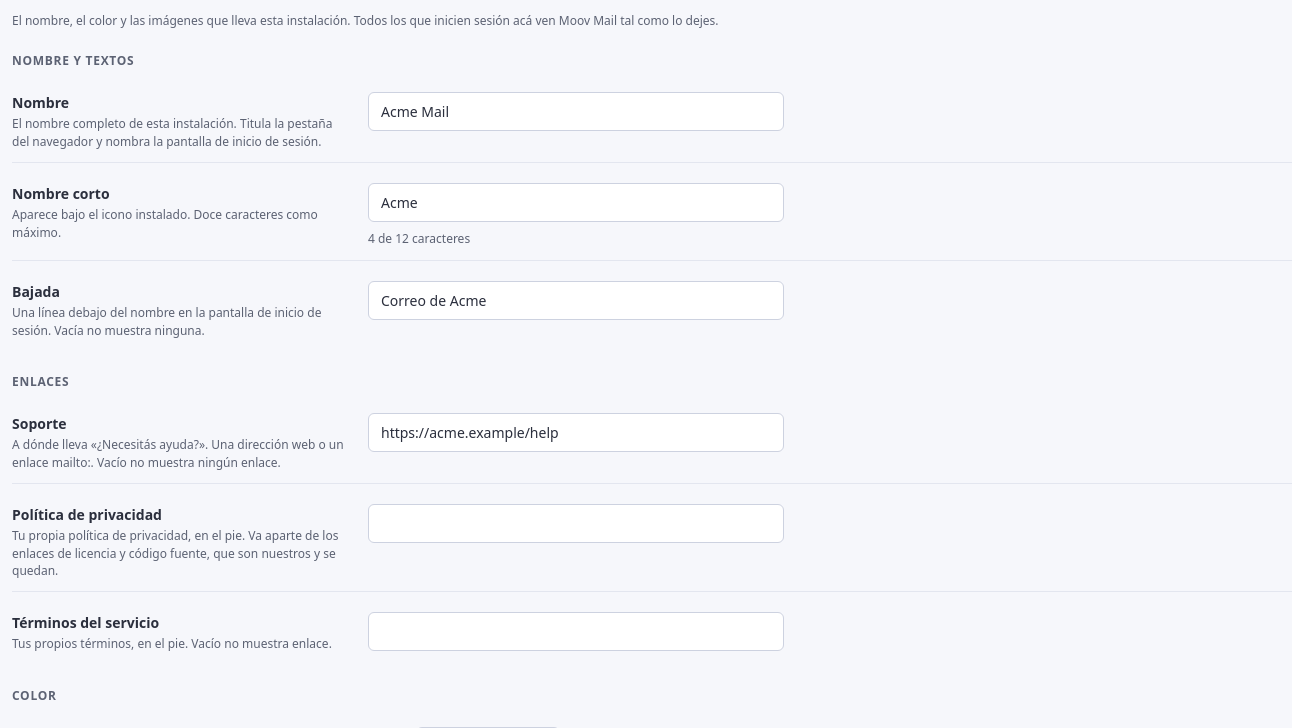
Test: the text fields save on blur, one field at a time › shows the page's own receipt after a save
Type "!" into the field labelled "Nombre".
click(576, 112); type("!")  # box left=368, top=92, right=784, bottom=131
Then press Enter
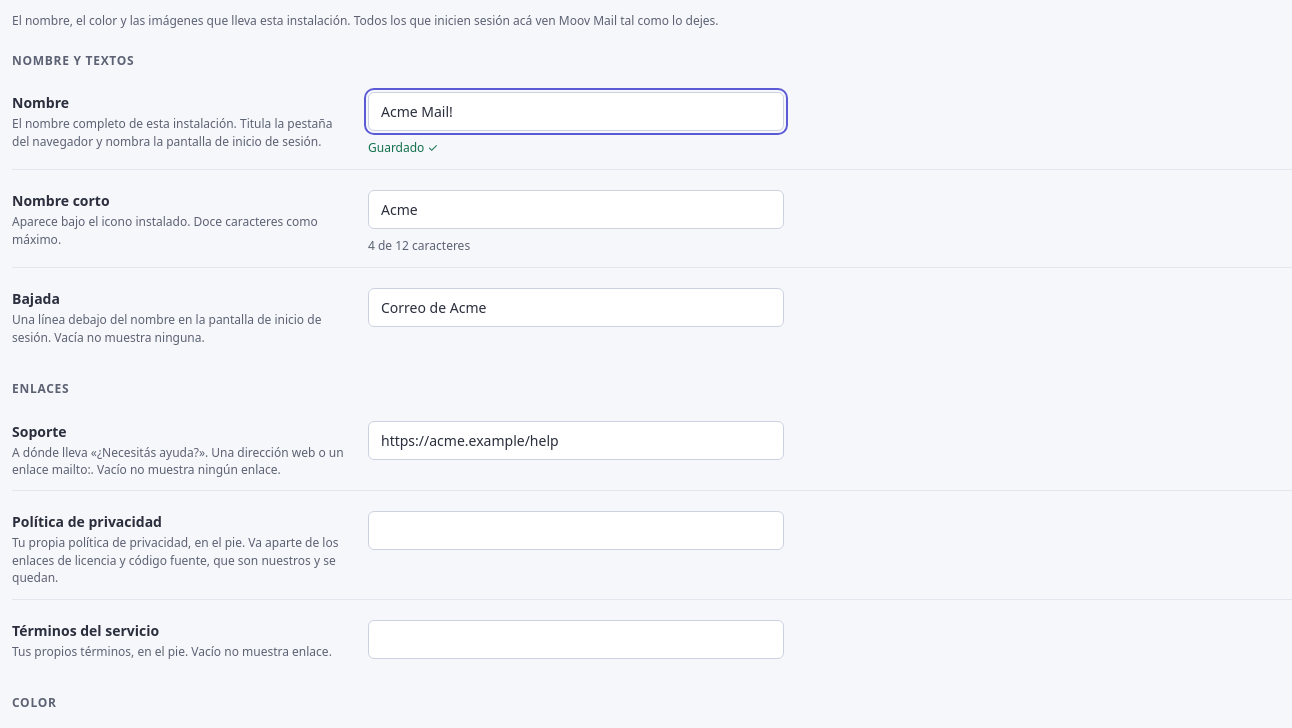
Check: the text "Guardado ✓" is shown, box left=368, top=139, right=438, bottom=157
